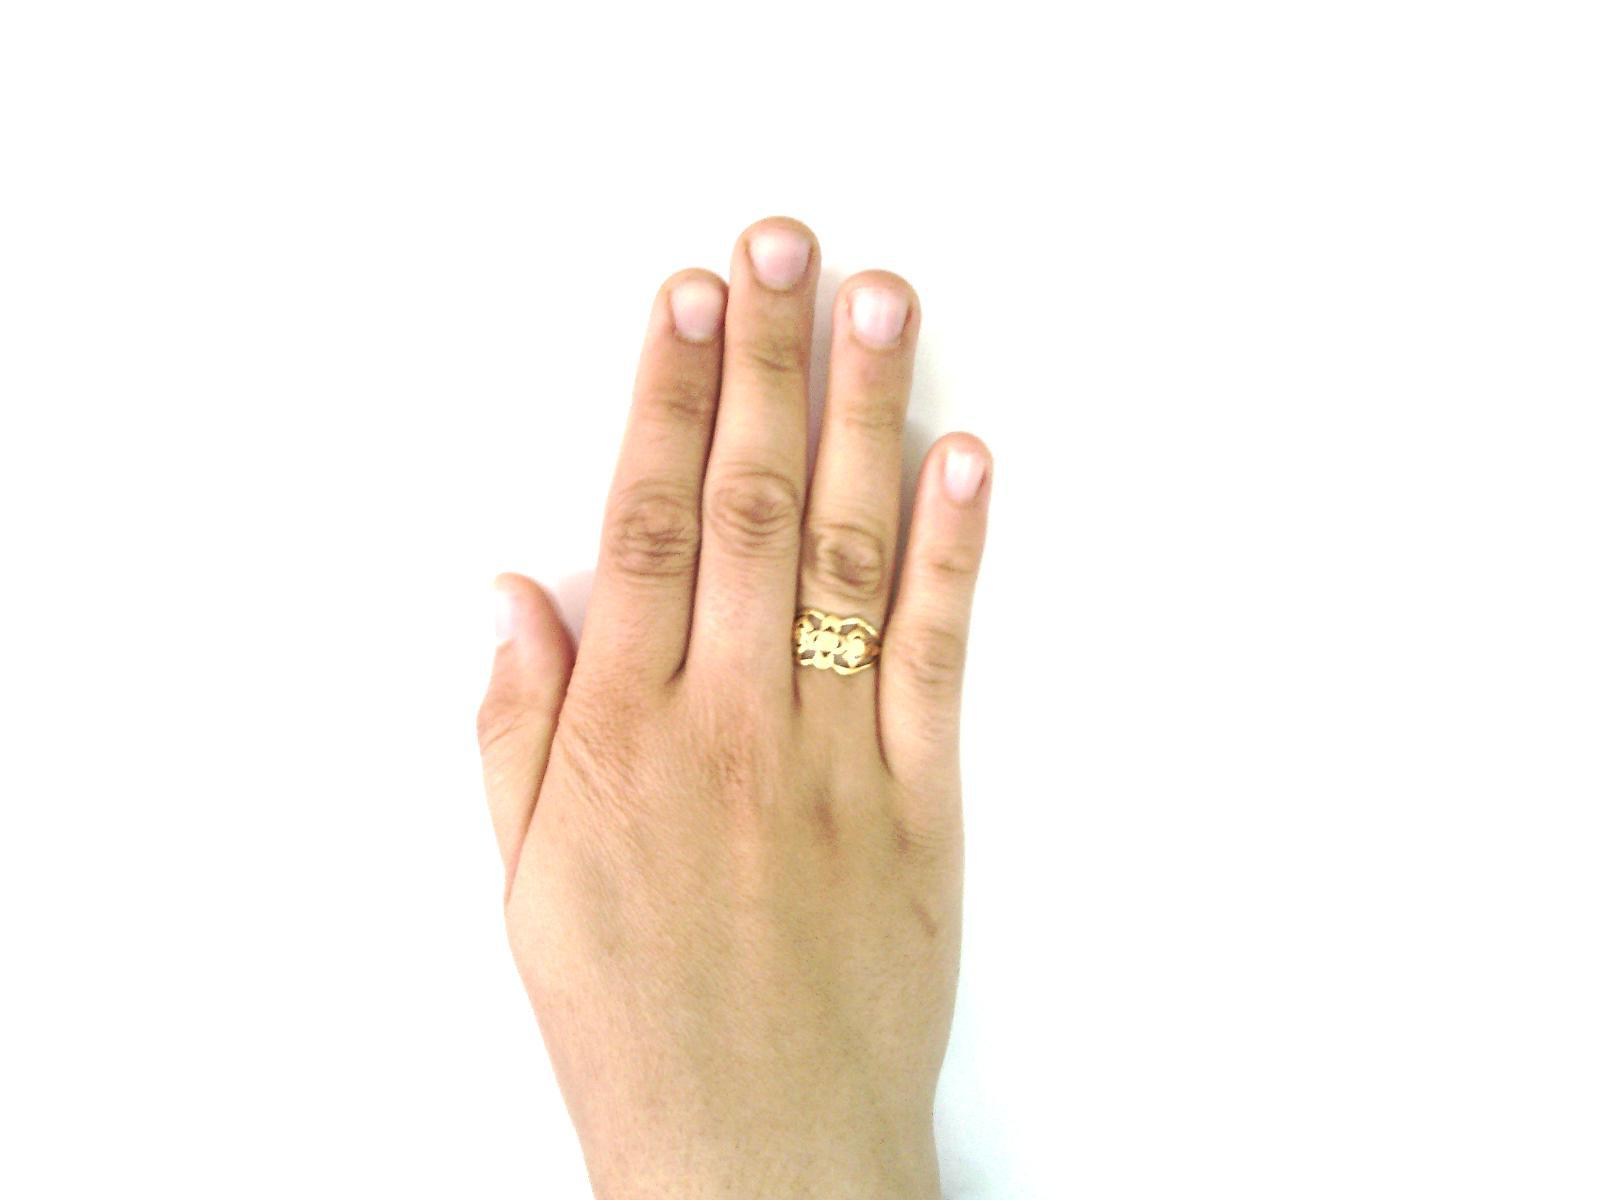hand: (464, 216, 1000, 1200)
